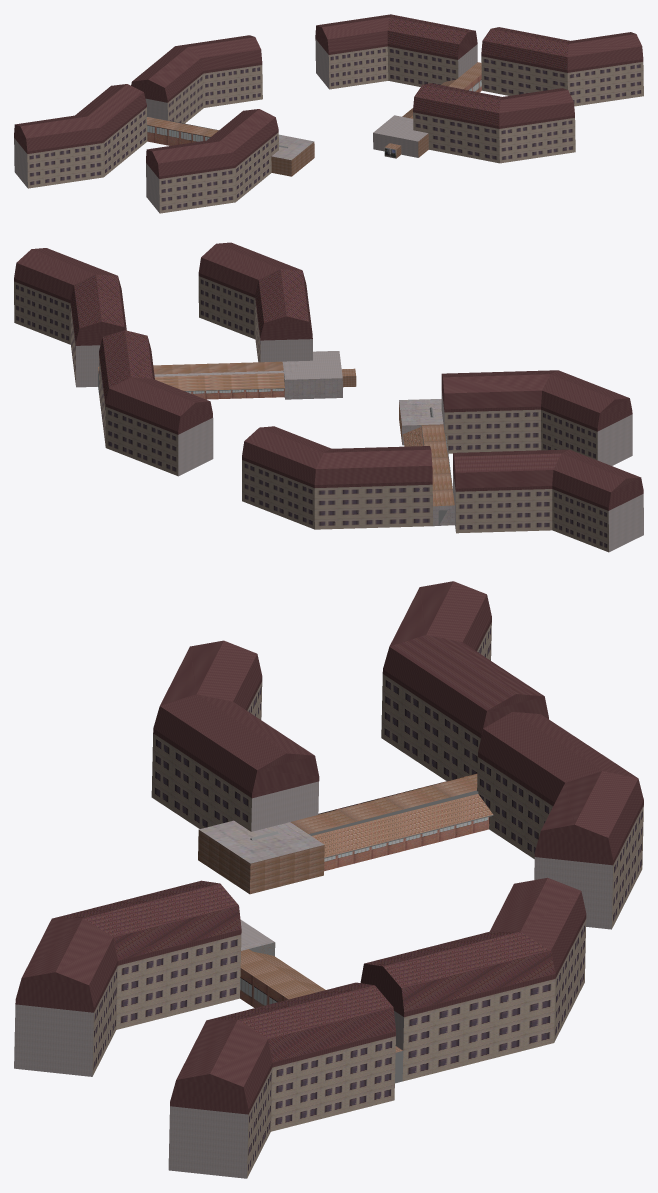
File: Sejong_Hall_Tool.obj
3 views of the same model, one above another, from view 1: azimuth 30°, elevation 25°; view 2: azimuth 150°, elevation 25°; view 3: azimuth 270°, elevation 25° (orthographic). The views are drawn at different scales.
Parts seen in each view (by area): view 1: VMtl1537, VMtl1543, VMtl1560, VMtl1559, VMtl1538; view 2: VMtl1537, VMtl1543, VMtl1560, VMtl1559, VMtl1538; view 3: VMtl1537, VMtl1543, VMtl1560, VMtl1559, VMtl1538, VMtl1549.
Boxes of the visible parts, x1,y1,x2,y2 form: VMtl1537: [14, 14, 643, 178]; VMtl1543: [27, 46, 643, 213]; VMtl1560: [14, 39, 477, 212]; VMtl1559: [147, 62, 481, 176]; VMtl1538: [147, 74, 481, 145]; VMtl1537: [14, 242, 643, 510]; VMtl1543: [14, 276, 608, 552]; VMtl1560: [75, 339, 643, 552]; VMtl1559: [98, 361, 454, 506]; VMtl1538: [186, 389, 452, 490]; VMtl1537: [15, 581, 643, 1114]; VMtl1543: [92, 622, 643, 1178]; VMtl1560: [14, 781, 613, 1178]; VMtl1559: [198, 774, 493, 1052]; VMtl1538: [240, 773, 489, 1007]; VMtl1549: [249, 790, 493, 956].
Bounding box in the file's own units: 215 × 22.38 × 112.
12 materials, 9 textured.
